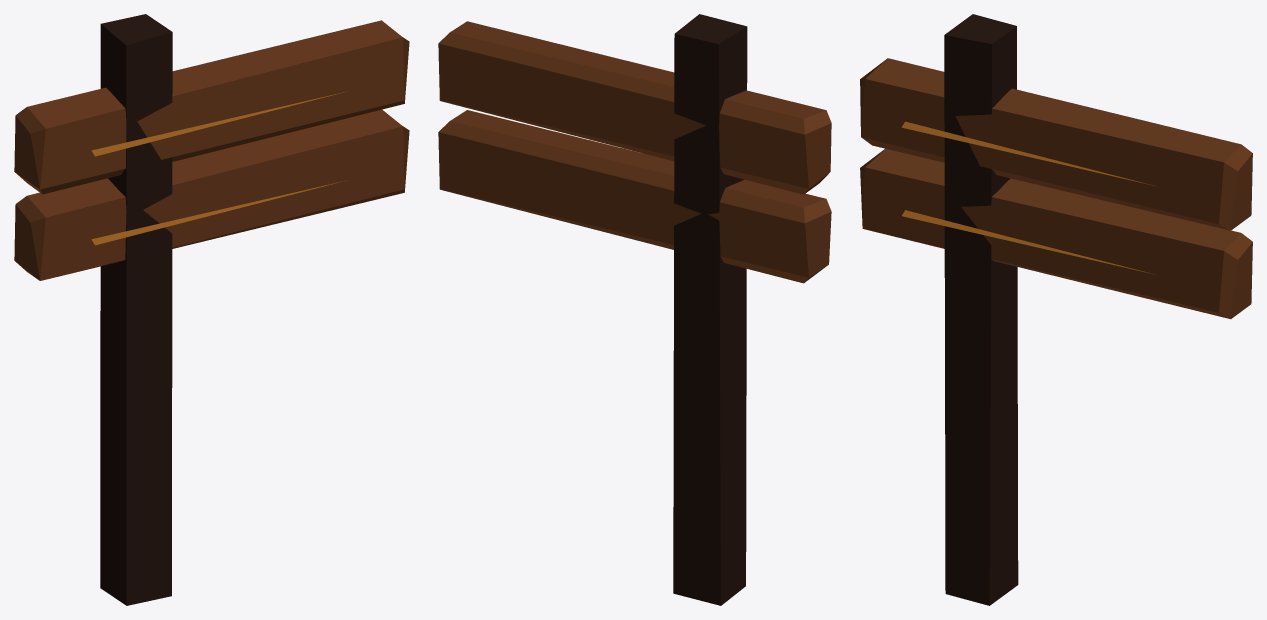
The model's file is Placa_de_caminho_LOD1.fbx.
3 renders of one model, left to right at view 1: azimuth 30°, elevation 25°; view 2: azimuth 150°, elevation 25°; view 3: azimuth 330°, elevation 25°, orthographic.
Visible parts, largest first — view 1: Placa_de_caminho_LOD1; view 2: Placa_de_caminho_LOD1; view 3: Placa_de_caminho_LOD1.
Part boxes in pixels (x1,y1,x2,y2): Placa_de_caminho_LOD1: (14, 14, 409, 605); Placa_de_caminho_LOD1: (438, 14, 831, 605); Placa_de_caminho_LOD1: (860, 14, 1252, 605).
Size of the model in its own units: 125 by 178 by 19.57.
1 material, 1 textured.
